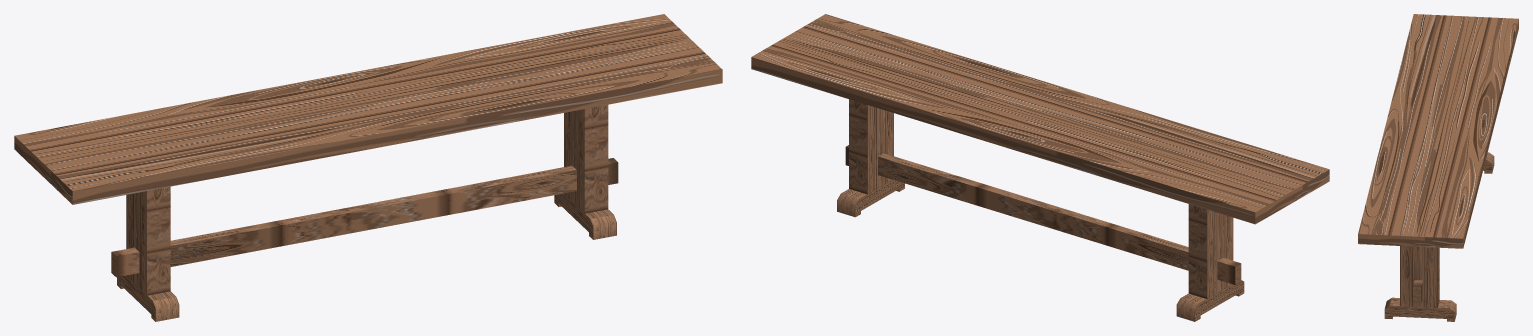
The model's file is Bench.fbx.
3 renders of one model, left to right at view 1: azimuth 30°, elevation 25°; view 2: azimuth 150°, elevation 25°; view 3: azimuth 270°, elevation 25°, orthographic. The views are drawn at different scales.
Visible parts, largest first — view 1: bench Top001; view 2: bench Top001; view 3: bench Top001.
Boxes of the visible parts, <box> form: bench Top001: <box>14,14,722,321</box>; bench Top001: <box>751,14,1329,321</box>; bench Top001: <box>1358,14,1518,321</box>.
Bounding box in the file's own units: 112 × 33.8 × 26.97.
1 material, 1 textured.
